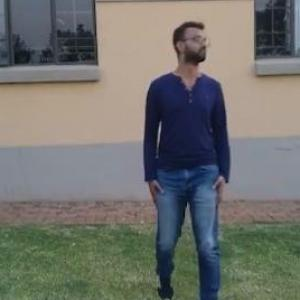follow: (137, 1, 240, 287)
